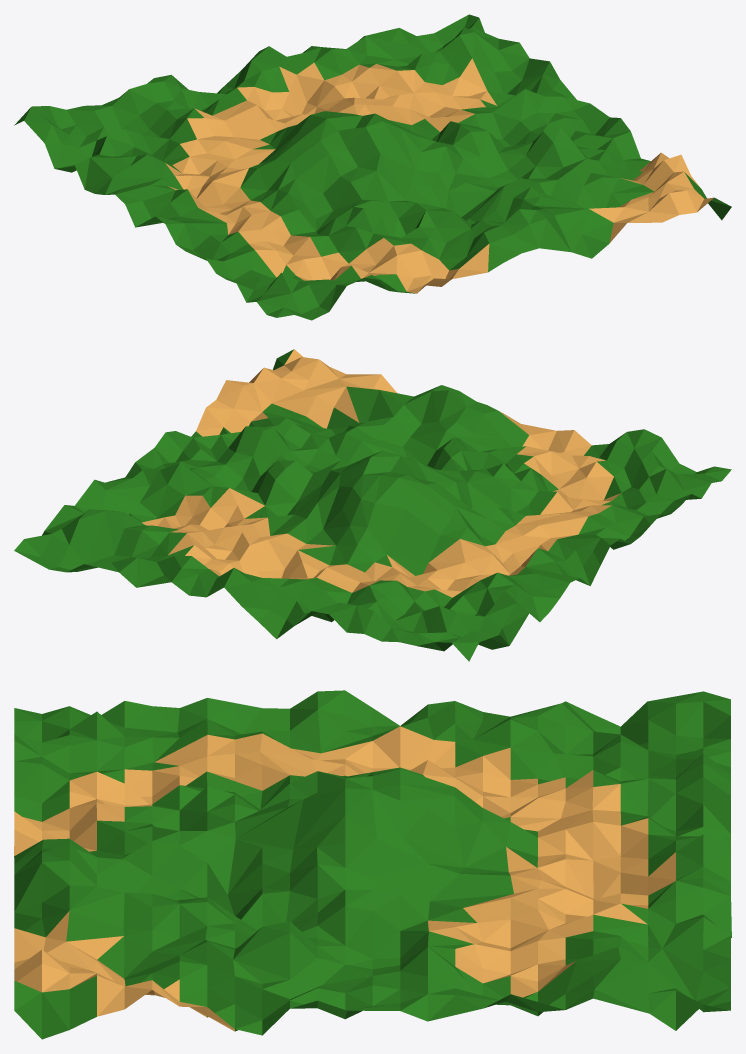
3 renders of one model, top to bottom at view 1: azimuth 30°, elevation 25°; view 2: azimuth 150°, elevation 25°; view 3: azimuth 270°, elevation 25°, orthographic. The views are drawn at different scales.
Parts seen in each view (by area): view 1: Plane; view 2: Plane; view 3: Plane.
Part boxes in pixels (left/top/right/bottom): Plane: left=14, top=14, right=731, bottom=320; Plane: left=14, top=349, right=731, bottom=661; Plane: left=14, top=690, right=731, bottom=1039.
Bounding box in the file's own units: 1096 × 184 × 1098.
